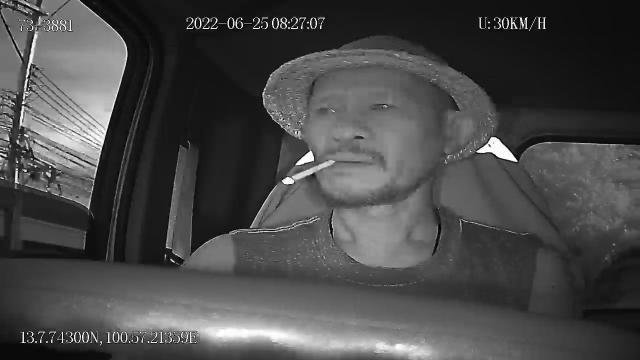SafeDriving: (362, 94, 402, 116), (311, 100, 347, 121)
Smoking: (281, 160, 337, 187)
